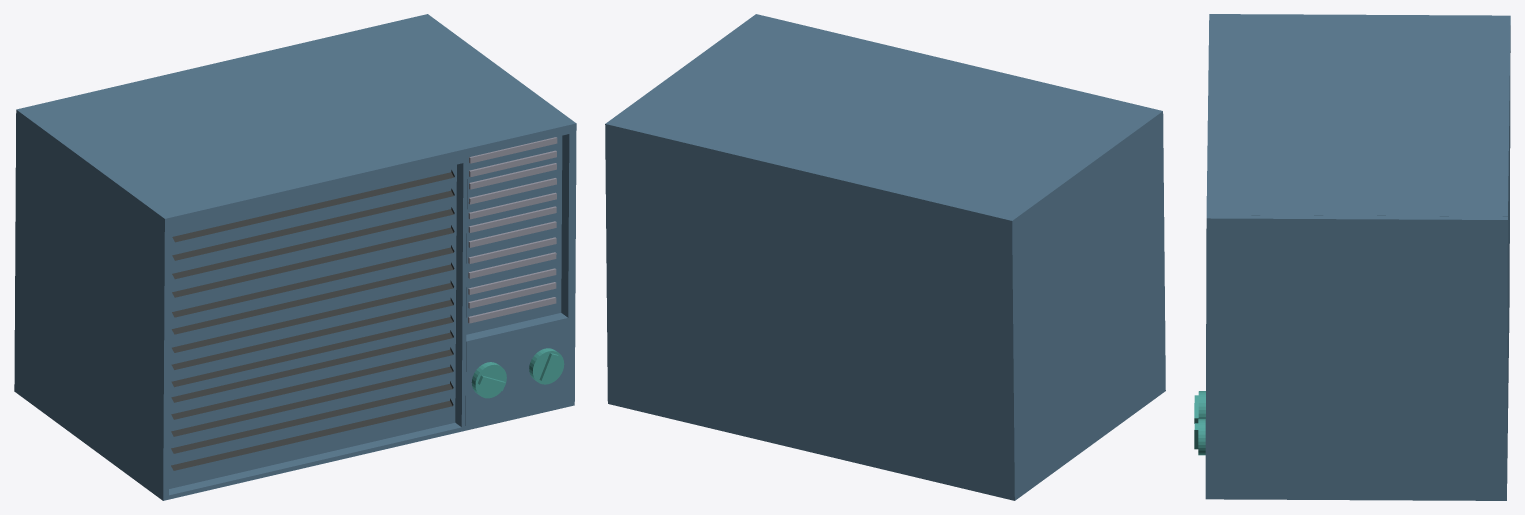
File: aircon.fbx
The picture shows the model from 3 angles, left to right: view 1: azimuth 30°, elevation 25°; view 2: azimuth 150°, elevation 25°; view 3: azimuth 270°, elevation 25°; orthographic projection.
Visible parts, largest first — view 1: Cube, Cube.001, Cube.003, Cylinder.001; view 2: Cube; view 3: Cube, Cylinder.001.
Part boxes in pixels (x1,y1,x2,y2): Cube: (14,14,576,500); Cube.001: (171,170,454,470); Cube.003: (468,137,557,323); Cylinder.001: (471,348,564,398); Cube: (605,14,1165,500); Cube: (1205,14,1510,500); Cylinder.001: (1194,391,1205,455).
Size of the model in its own units: 318 by 210 by 210.
